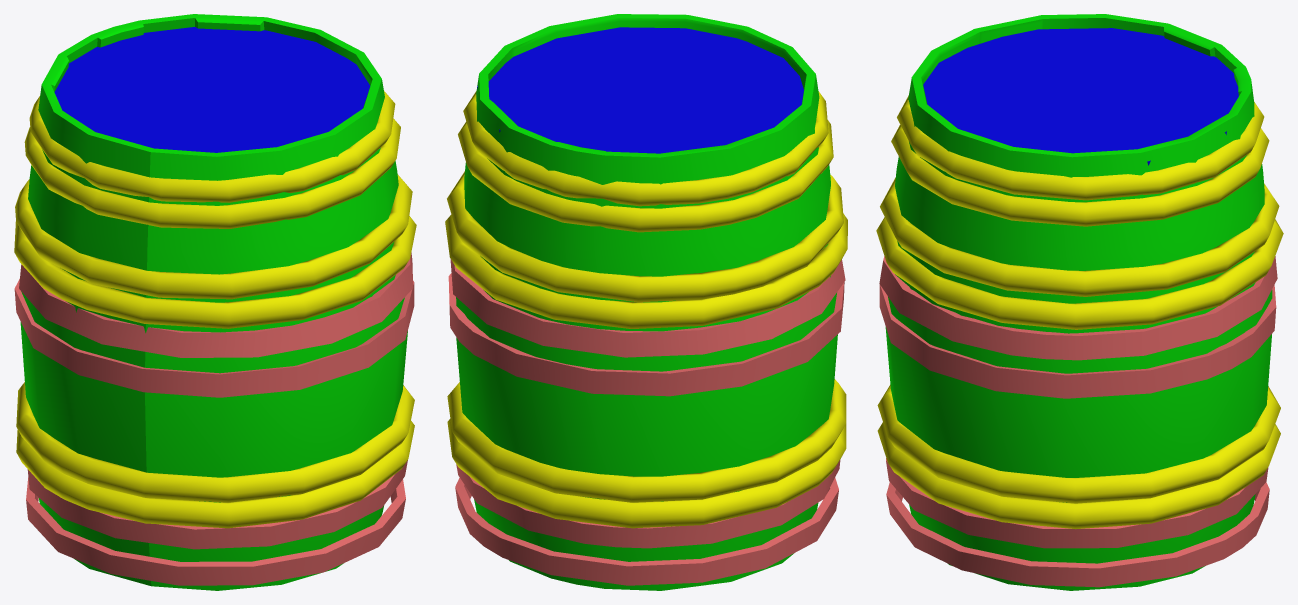
File: barrelTest.fbx
3 renders of one model, left to right at view 1: azimuth 30°, elevation 25°; view 2: azimuth 150°, elevation 25°; view 3: azimuth 270°, elevation 25°, orthographic.
Parts seen in each view (by area): view 1: barrel; view 2: barrel; view 3: barrel.
Part boxes in pixels (x1,y1,x2,y2): barrel: (14,14,416,590); barrel: (445,14,847,590); barrel: (876,14,1283,590).
Bounding box in the file's own units: 0.9232 × 1.09 × 0.9223.
